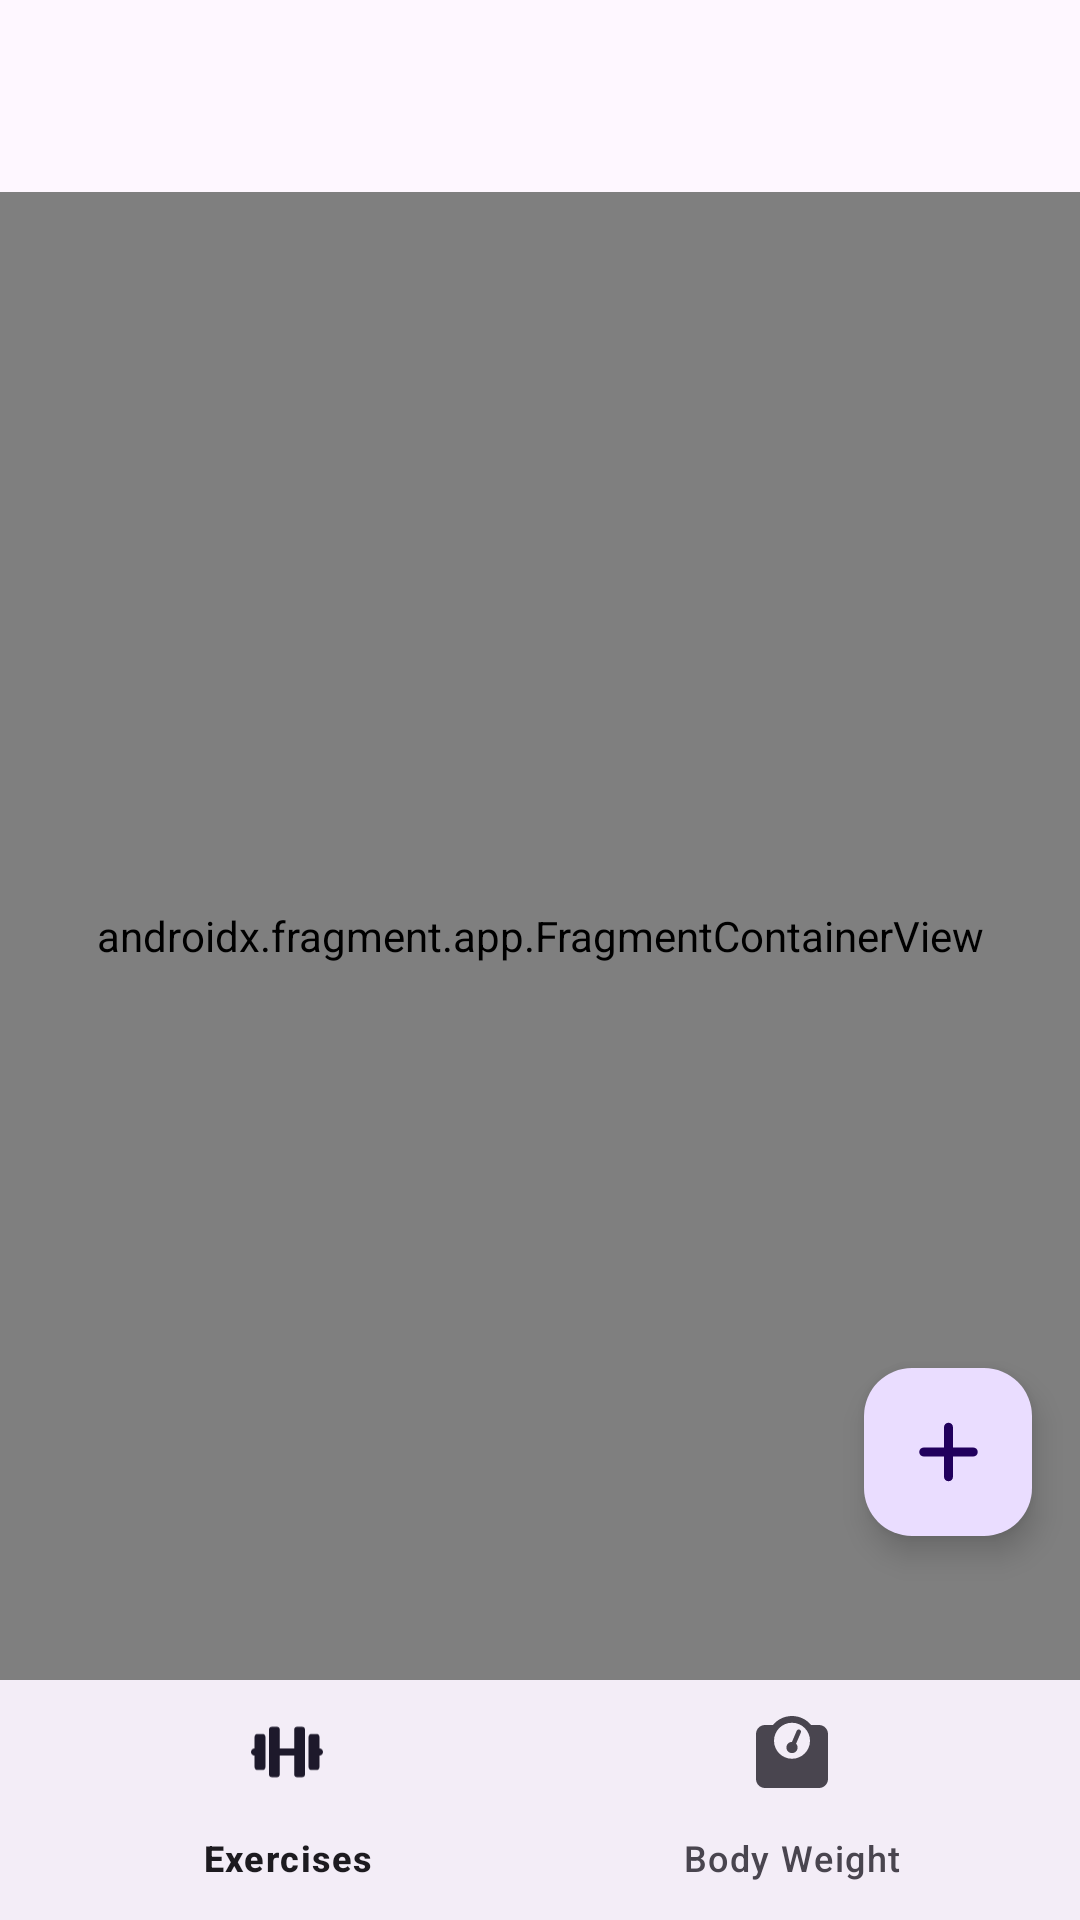

Icons on this 1080w x 1920h Android screen, each with its box as [x1, y1, x2, y2]:
add: [864, 1368, 1032, 1536]
